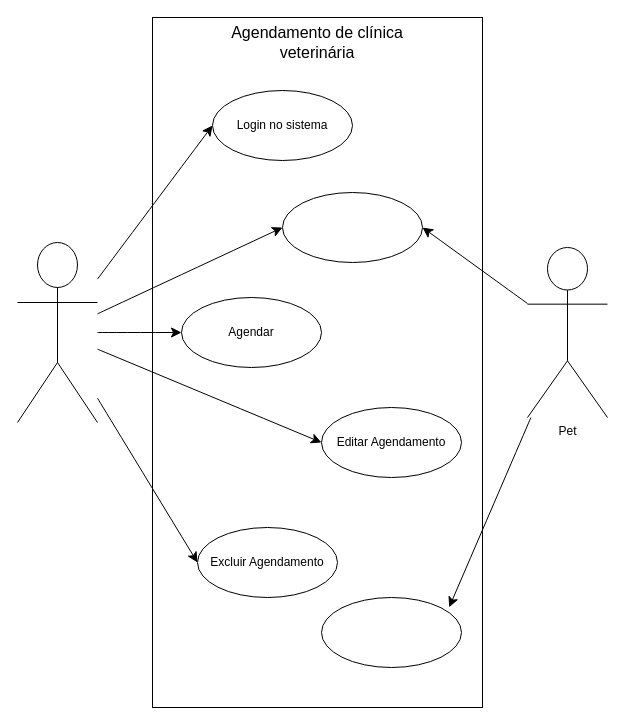
Image size: 625x725. Some labels were removed from this diagram. The shapes that lost their labels are listed below. From the top down, each one's centre as x and y in pixels, then its label:
At point (352, 227): "Cadastrar Pet".
At point (57, 332): "Tutor".
At point (391, 632): "Atendimento".
